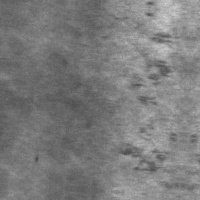rolled-in_scale: (116, 40, 179, 175), (114, 7, 188, 42)
